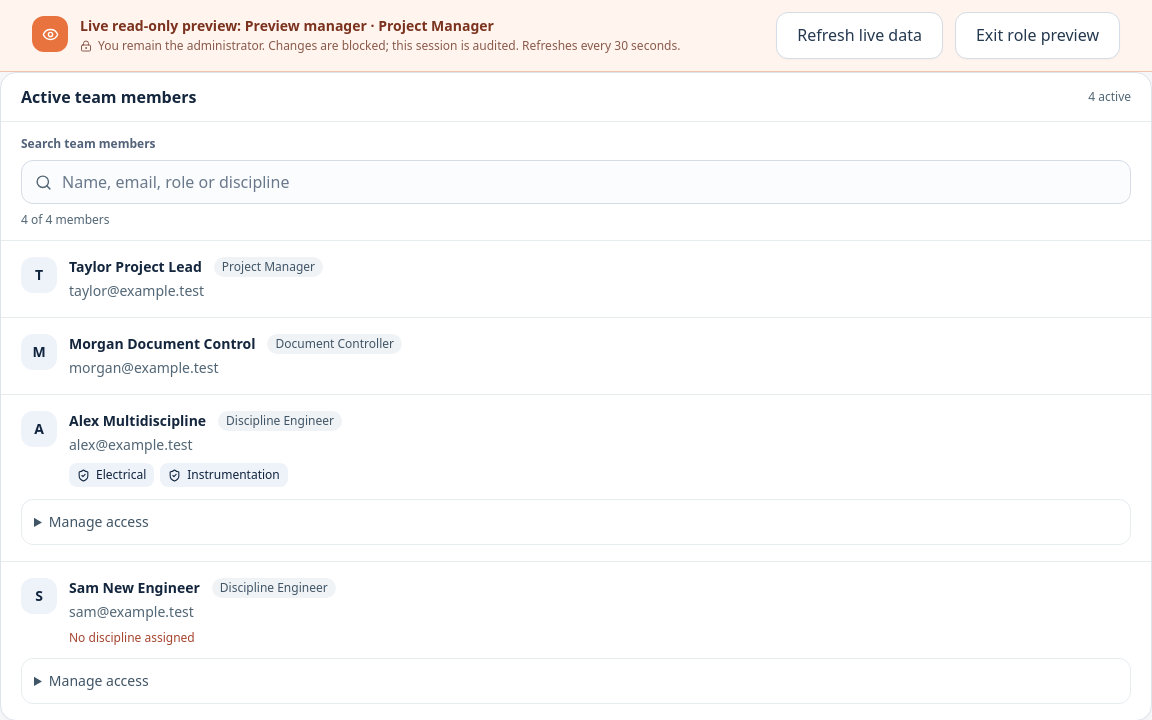
Test: Project team directory › keeps search usable in audited preview while locking all mutation fields
Type "Alex" into the search field labelled "Search team members".
click(576, 182); type("Alex")  # box [21,160,1131,204]
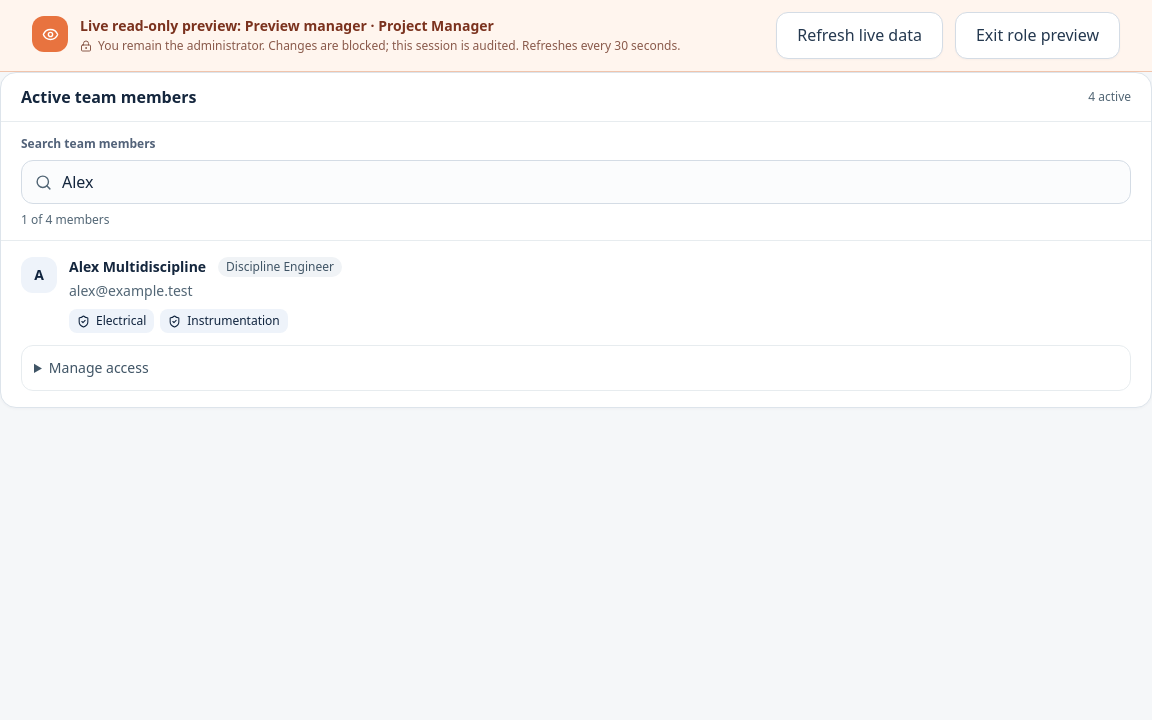
Click the heading "Manage access".
click(173, 367)  # box [49,357,297,377]
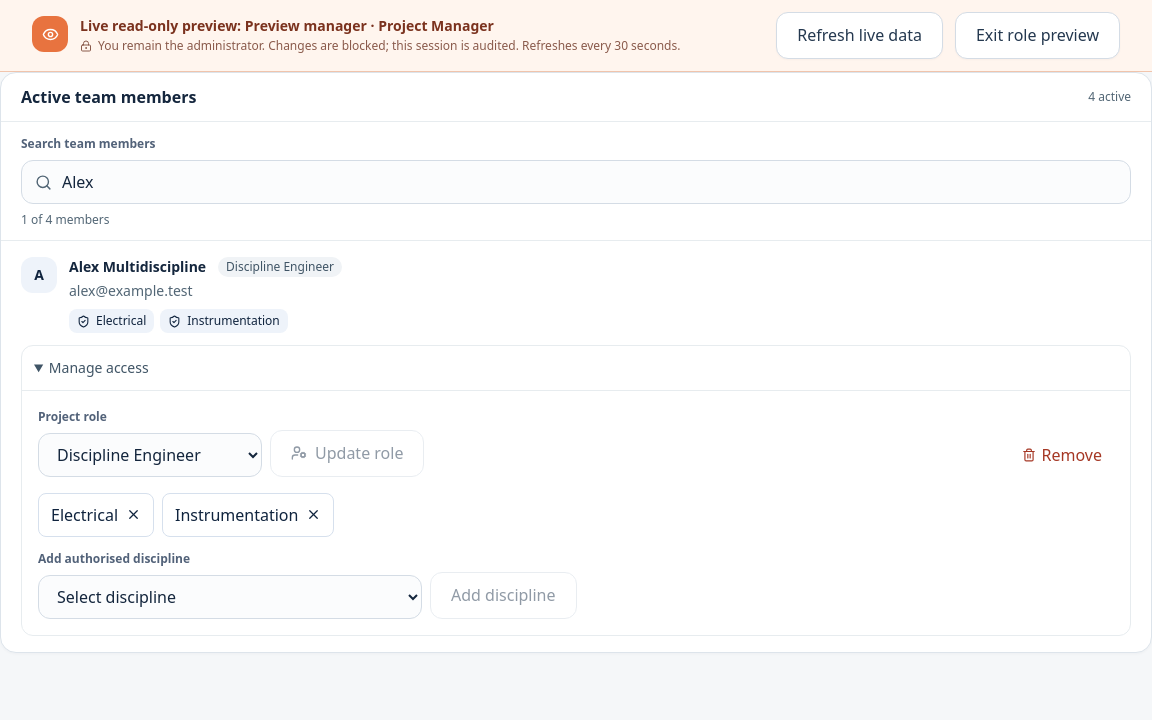
Now the button "Add discipline" is disabled, box [430,572,576,619]
Now the dropdown labelled "Add authorised discipline" is disabled, box [38,575,422,619]
